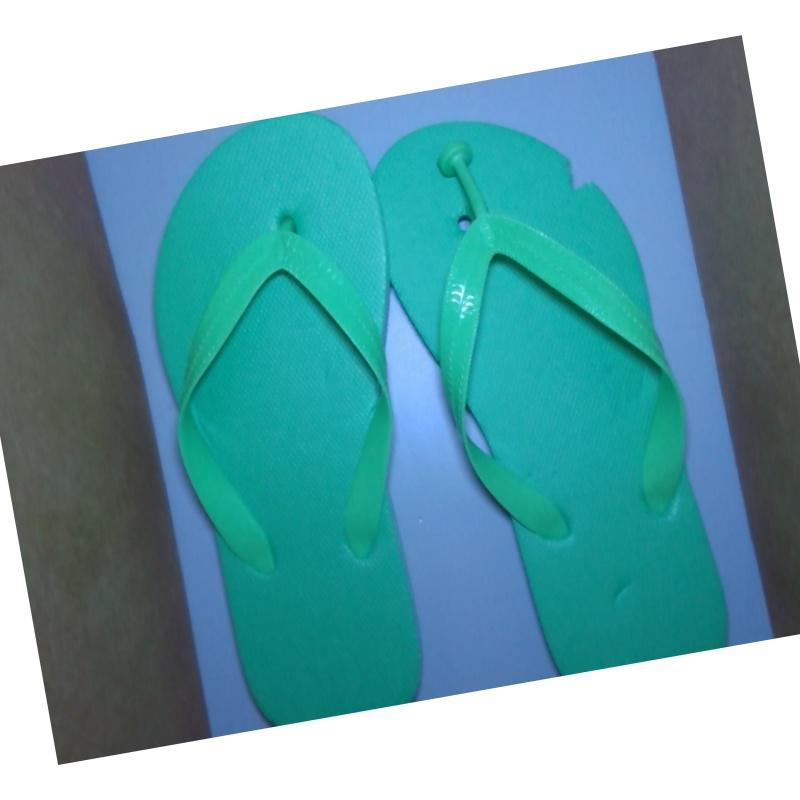chipped: (554, 145, 609, 206)
detached: (429, 137, 486, 193)
